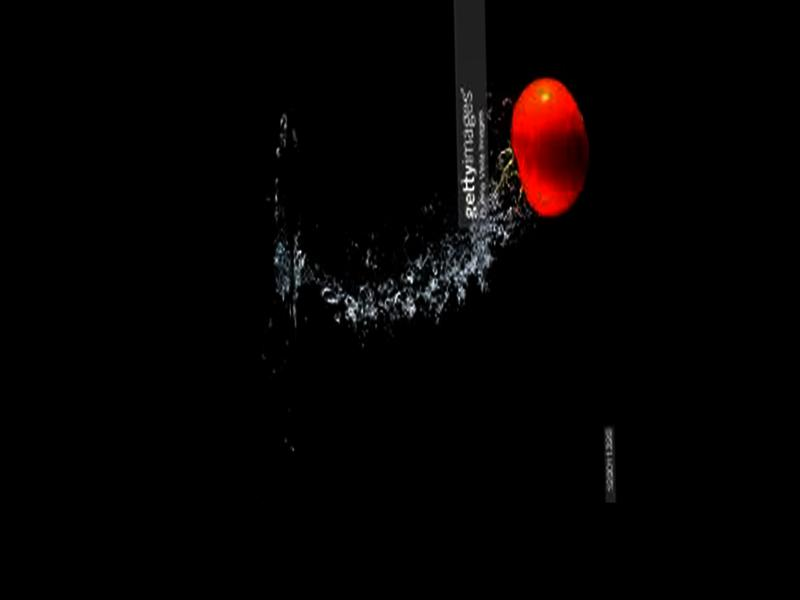Tomato: (509, 76, 587, 220)
